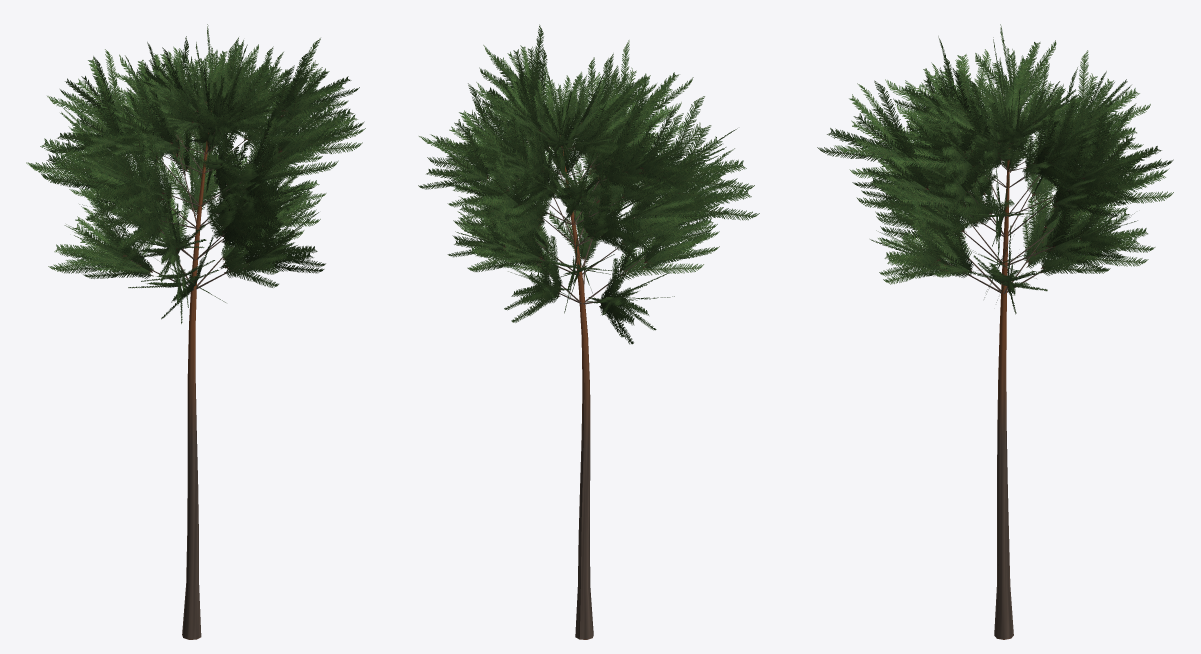
File: tree_pine.glb
3 renders of one model, left to right at view 1: azimuth 30°, elevation 25°; view 2: azimuth 150°, elevation 25°; view 3: azimuth 270°, elevation 25°, orthographic. The views are drawn at different scales.
Parts seen in each view (by area): view 1: LOD0; view 2: LOD0; view 3: LOD0.
Part boxes in pixels (box(x1,y1,x2,y2)): LOD0: box(26, 24, 365, 639); LOD0: box(418, 24, 759, 639); LOD0: box(817, 24, 1173, 639).
Size of what is drawn, in the model's own units: 12.54 by 21.48 by 12.59.
Materials: 2 (2 with a texture image).
